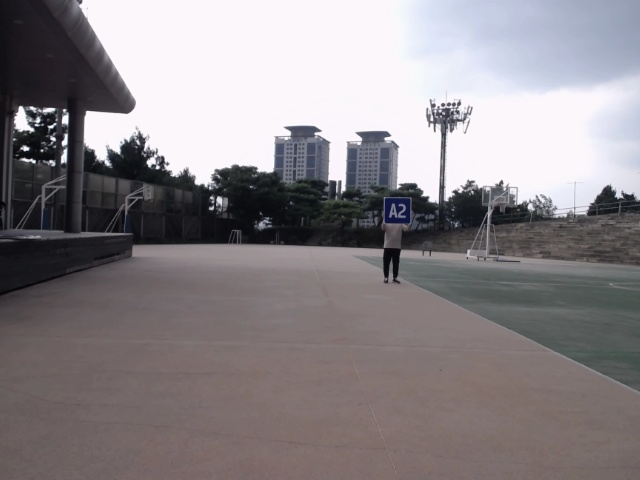delivery_a2: (384, 197, 412, 224)
